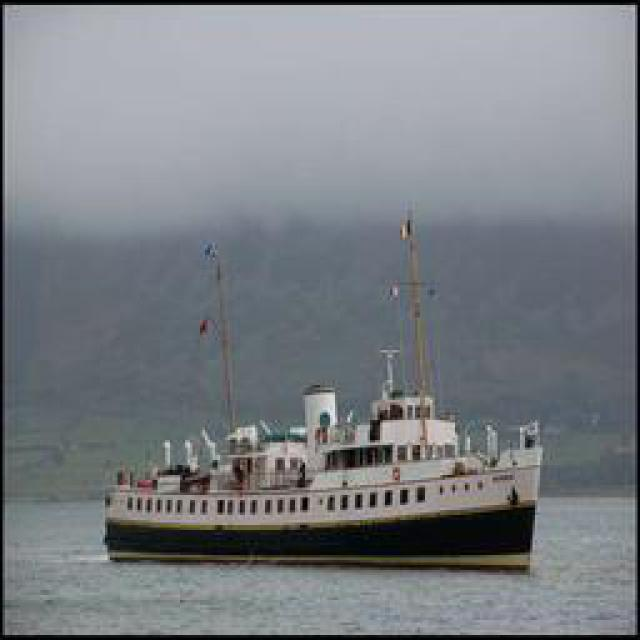Ship: (102, 208, 552, 563)
